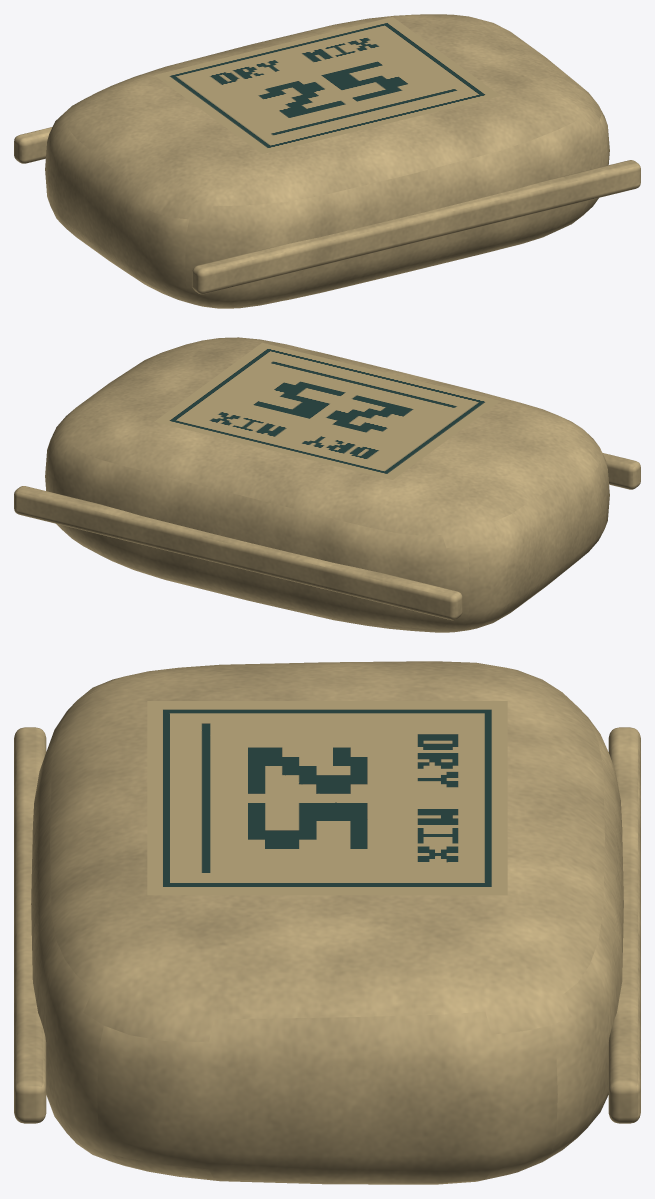
File: CSE_CementBag.fbx
3 views of the same model, one above another, from view 1: azimuth 30°, elevation 25°; view 2: azimuth 150°, elevation 25°; view 3: azimuth 270°, elevation 25° (orthographic). The views are drawn at different scales.
Visible parts, largest first — view 1: CSE_CementBag; view 2: CSE_CementBag; view 3: CSE_CementBag.
Boxes of the visible parts, bbox=[...] form: CSE_CementBag: bbox=[14, 14, 640, 308]; CSE_CementBag: bbox=[14, 337, 640, 632]; CSE_CementBag: bbox=[14, 661, 640, 1184].
Bounding box in the file's own units: 50 × 15 × 34.8.
